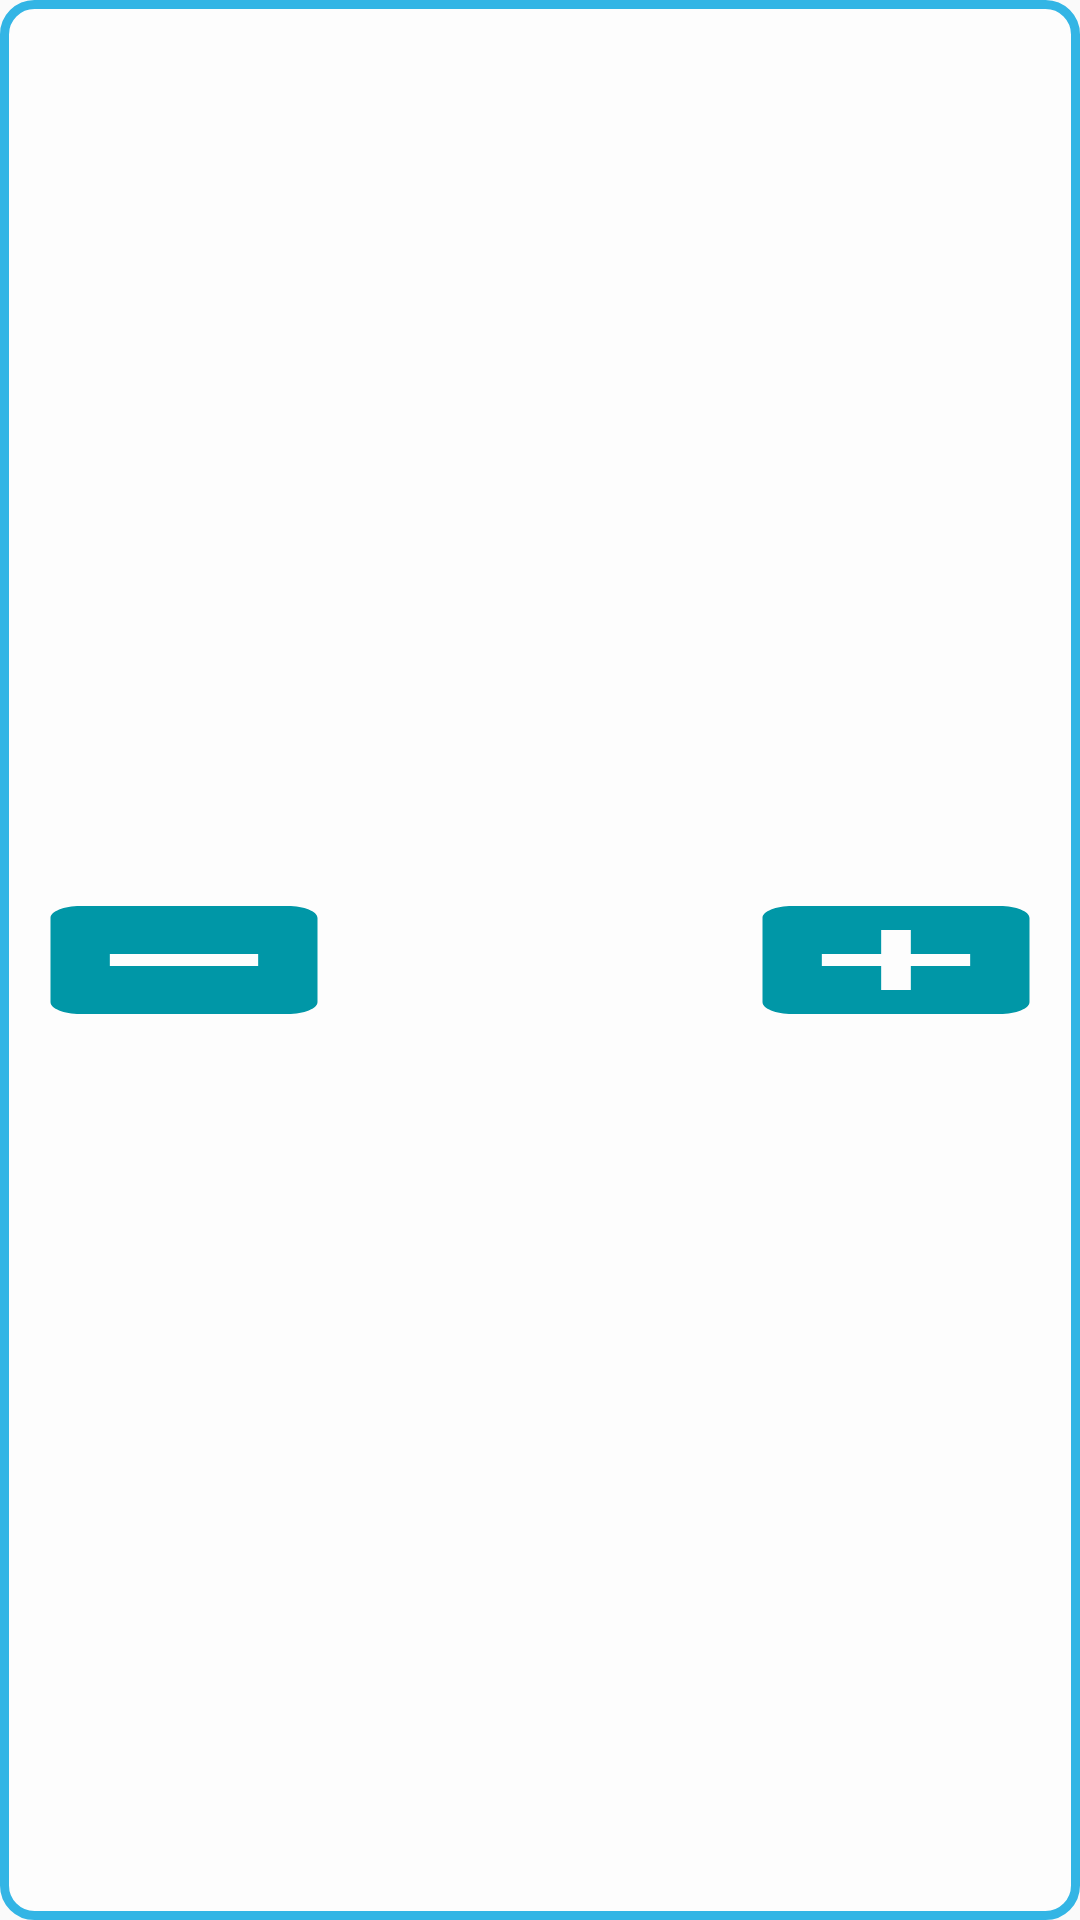

Point at icon controls on the screen. Image size 1080x1920, points as (x=x, y=y).
add box: (x=896, y=960)
indeterminate check box: (x=184, y=960)
